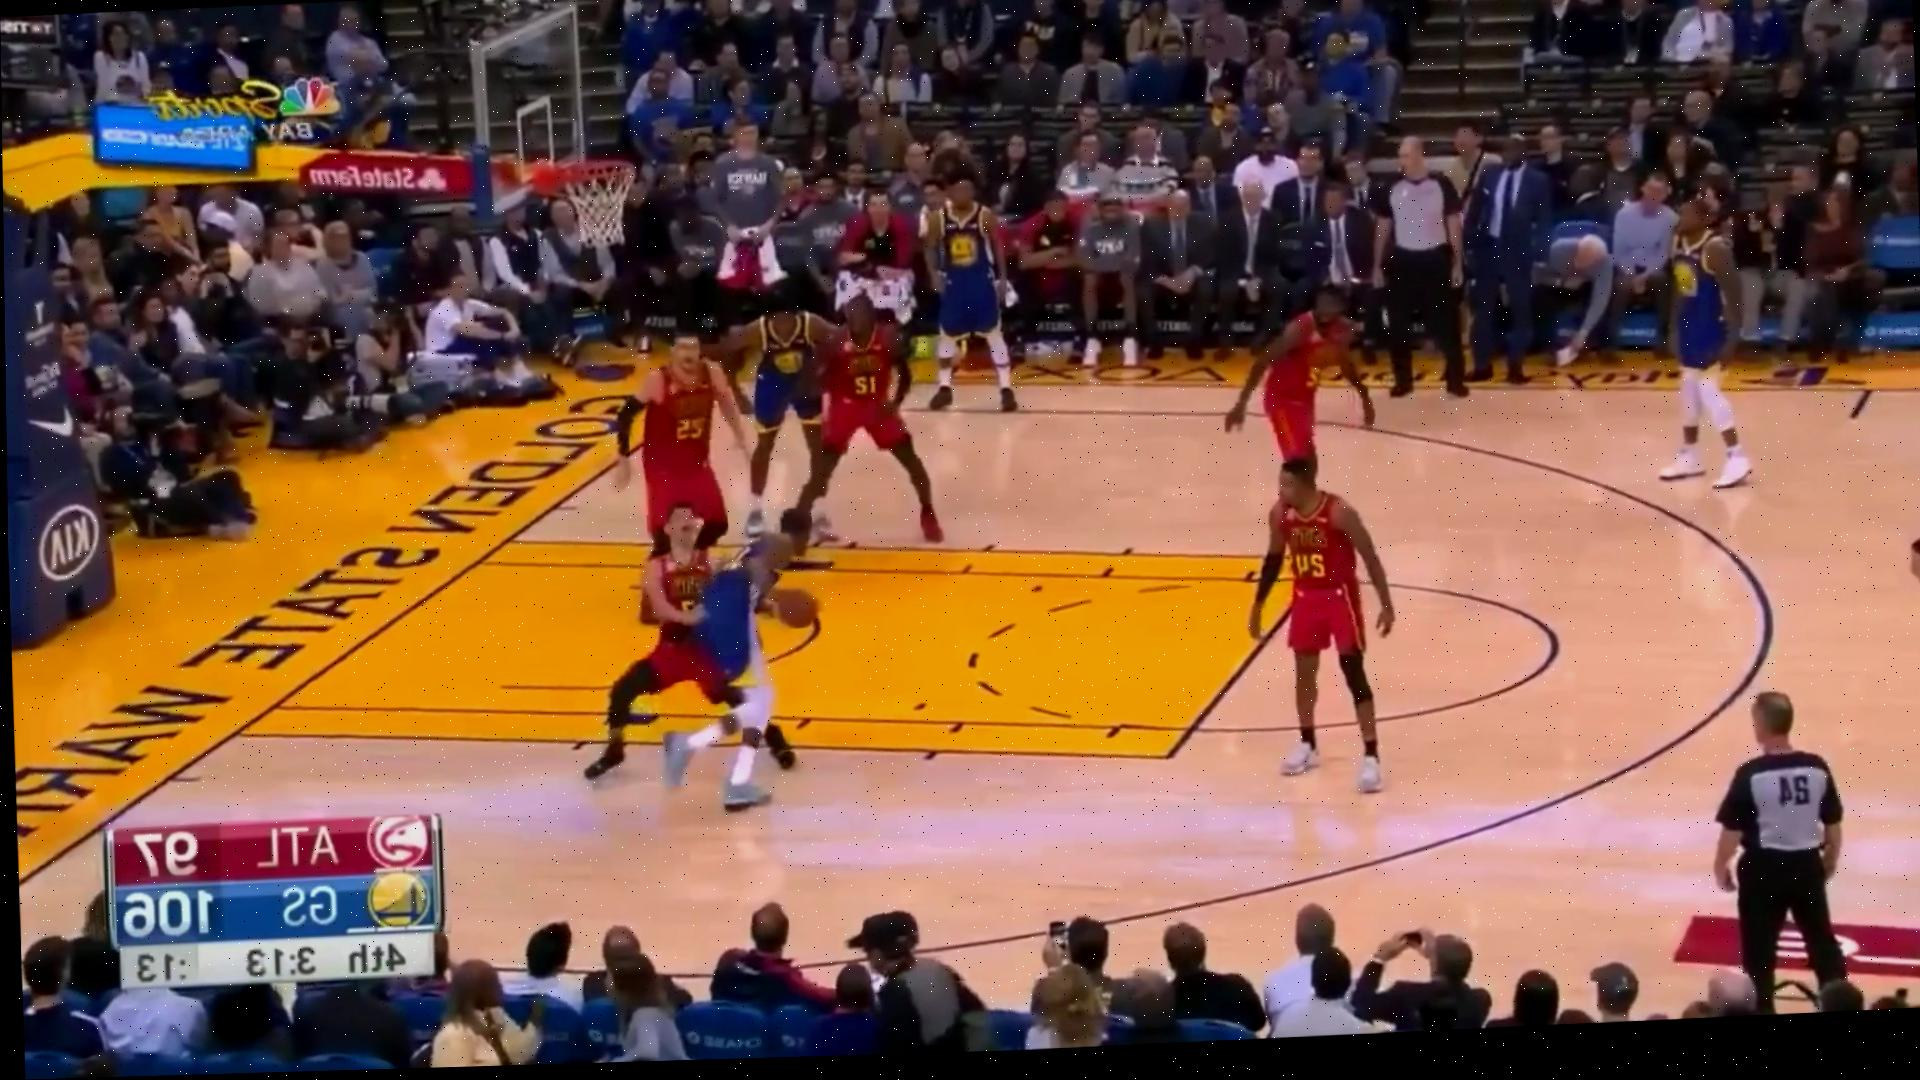foul: (571, 487, 828, 803)
